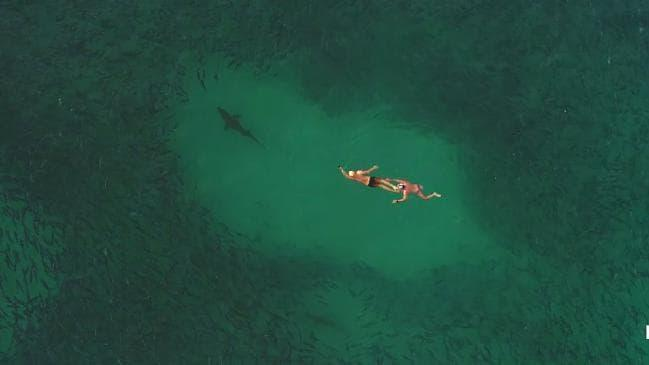human: (338, 160, 394, 187), (394, 178, 442, 206)
